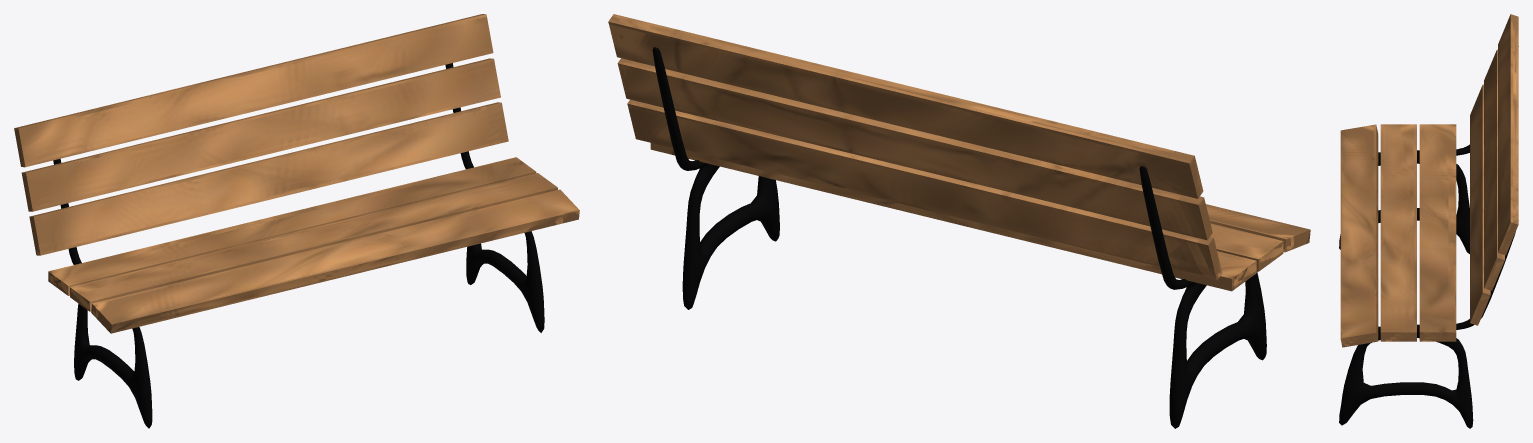
3 renders of one model, left to right at view 1: azimuth 30°, elevation 25°; view 2: azimuth 150°, elevation 25°; view 3: azimuth 270°, elevation 25°, orthographic. The views are drawn at different scales.
Parts seen in each view (by area): view 1: HighDetailedBench; view 2: HighDetailedBench; view 3: HighDetailedBench.
Part boxes in pixels (x1,y1,x2,y2): HighDetailedBench: (14,14,579,428); HighDetailedBench: (608,14,1310,428); HighDetailedBench: (1339,14,1518,428).
Size of what is drawn, in the model's own units: 6.24 by 3.13 by 2.28.
Materials: 2 (2 with a texture image).
